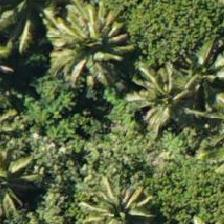coconut_tree: (114, 52, 204, 142), (37, 16, 127, 106), (66, 160, 156, 223)
